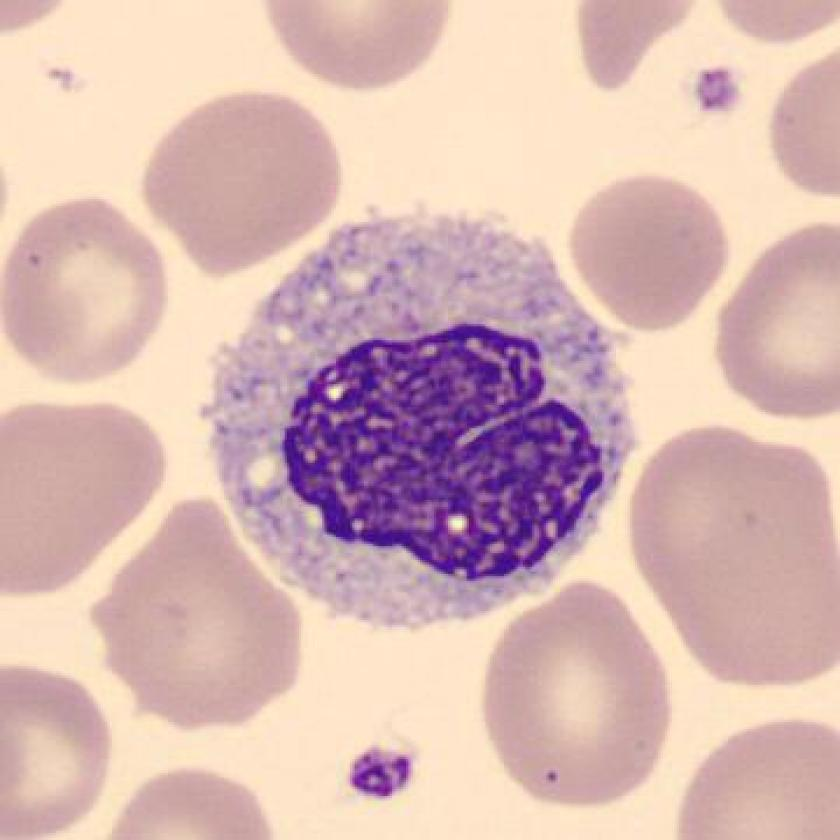monocyte: (183, 184, 671, 649)
